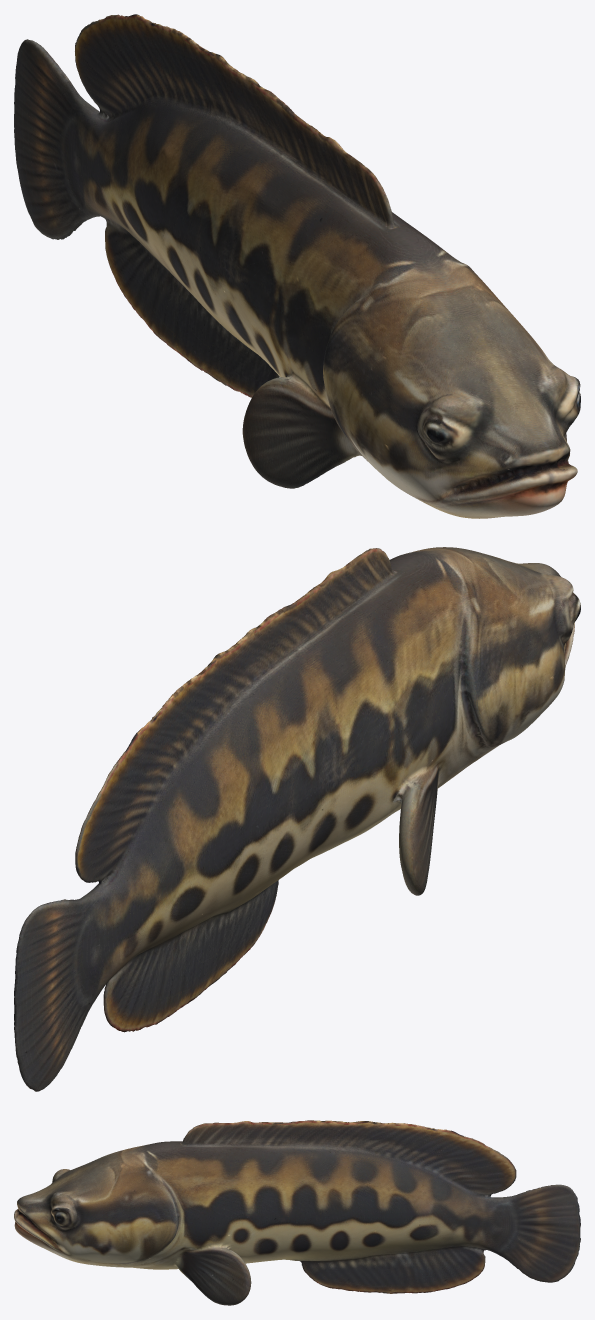
File: Snakehead.glb
3 views of the same model, one above another, from view 1: azimuth 30°, elevation 25°; view 2: azimuth 150°, elevation 25°; view 3: azimuth 270°, elevation 25° (orthographic). The views are drawn at different scales.
Size of the model in its own units: 0.3755 by 0.6745 by 2.
Materials: 1 (1 with a texture image).
